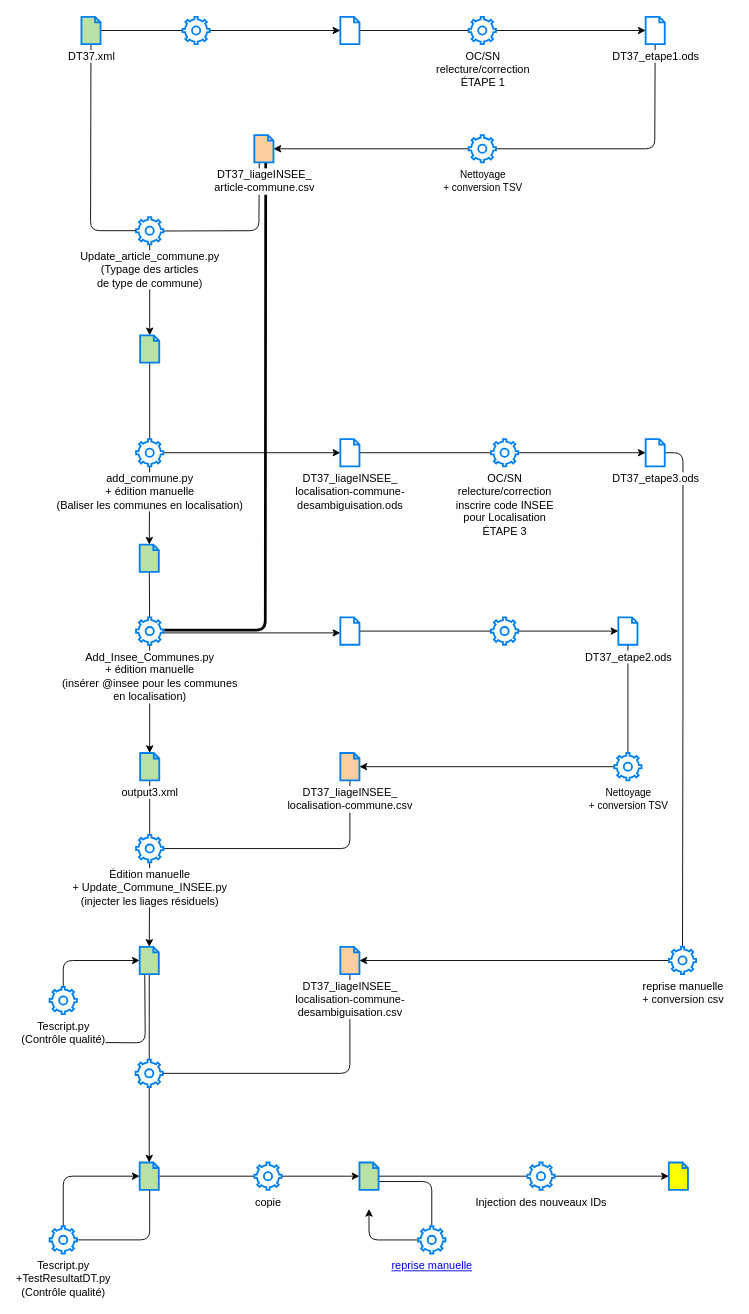
This 749x1314 diagram has some shape labels left out. The centre of each missing label's shape, as x and y in pixels:
DT37.ods: the point at 349,30
DT37_CommuneINSEE.xml DT37.xml VALIDATION ÉTAPE 1: the point at 149,348
DT37_liageINSEE_ localisation-commune.ods: the point at 349,630
OC/SN relecture/correction inscrire code INSEE pour Localisation ÉTAPE 2: the point at 504,630
output2.xml: the point at 148,557
output4.xml VALIDATION ÉTAPE 2: the point at 148,960
output5.xml VALIDATION ÉTAPE 3: the point at 148,1175
output6.xml: the point at 368,1175
output7.xml RELAX-NG VALIDATION ÉTAPE 4: the point at 677,1175
Recup_ville.xsl + Worflow Dataiku + Matchscript.py + édition manuelle: the point at 195,30
Update_INSEE_Code.py +édition manuelle: the point at 148,1072
